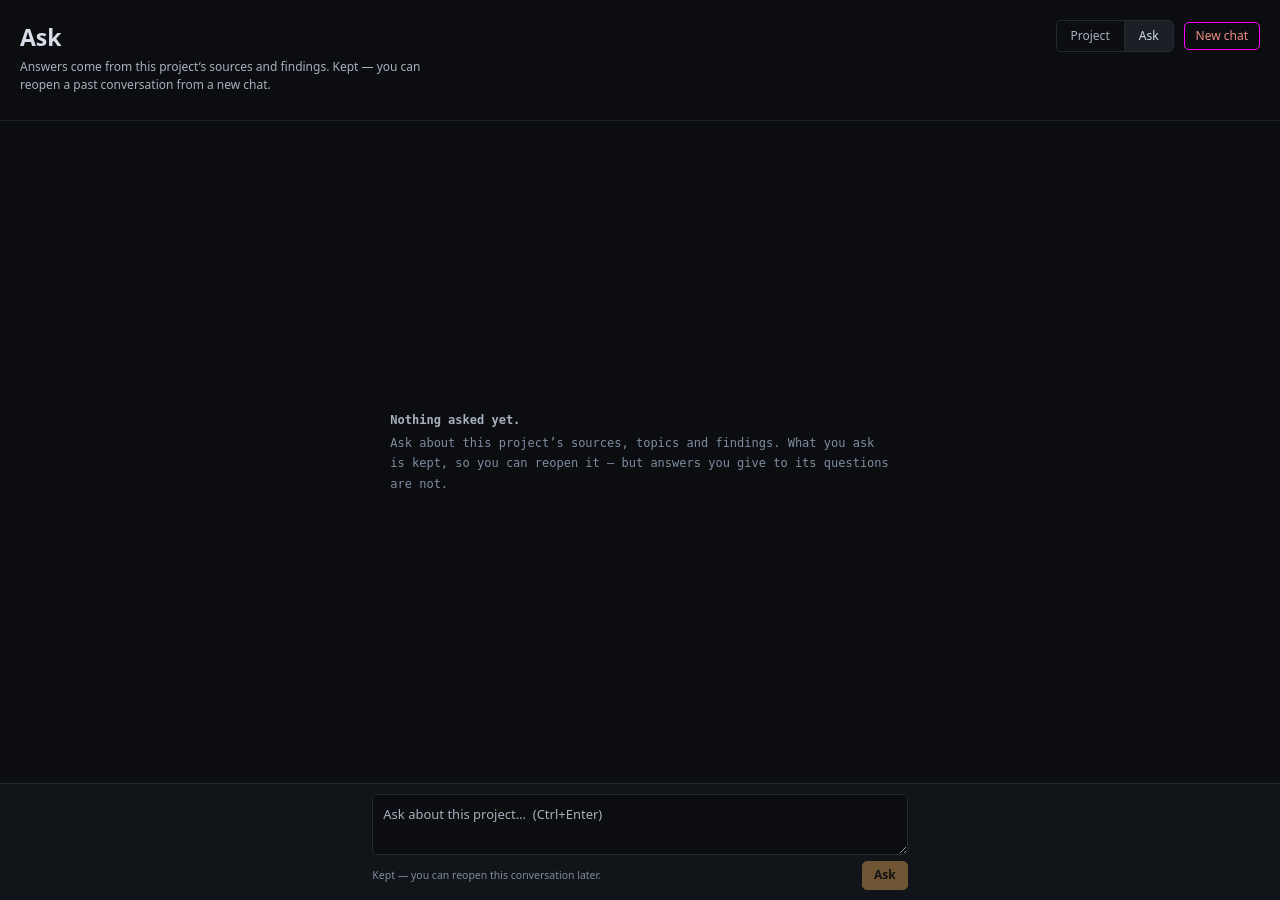
shows the question and its answer
This screenshot has width=1280, height=900.
Type "what did we find?" into the text box. click: {"x": 640, "y": 825}
box: [372,794,908,855]
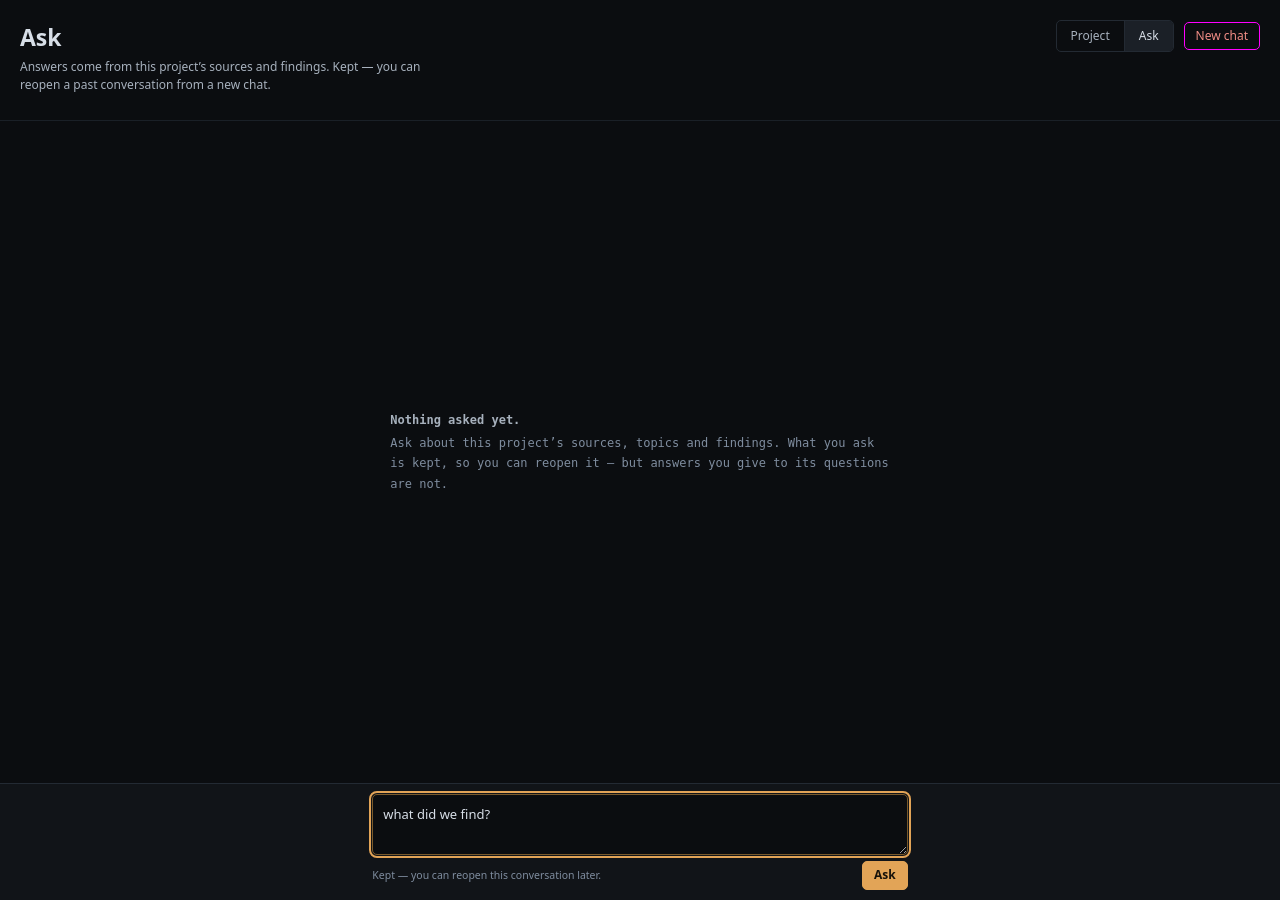
Click the button "Ask". click: {"x": 885, "y": 876}
box: [862,861,908,890]
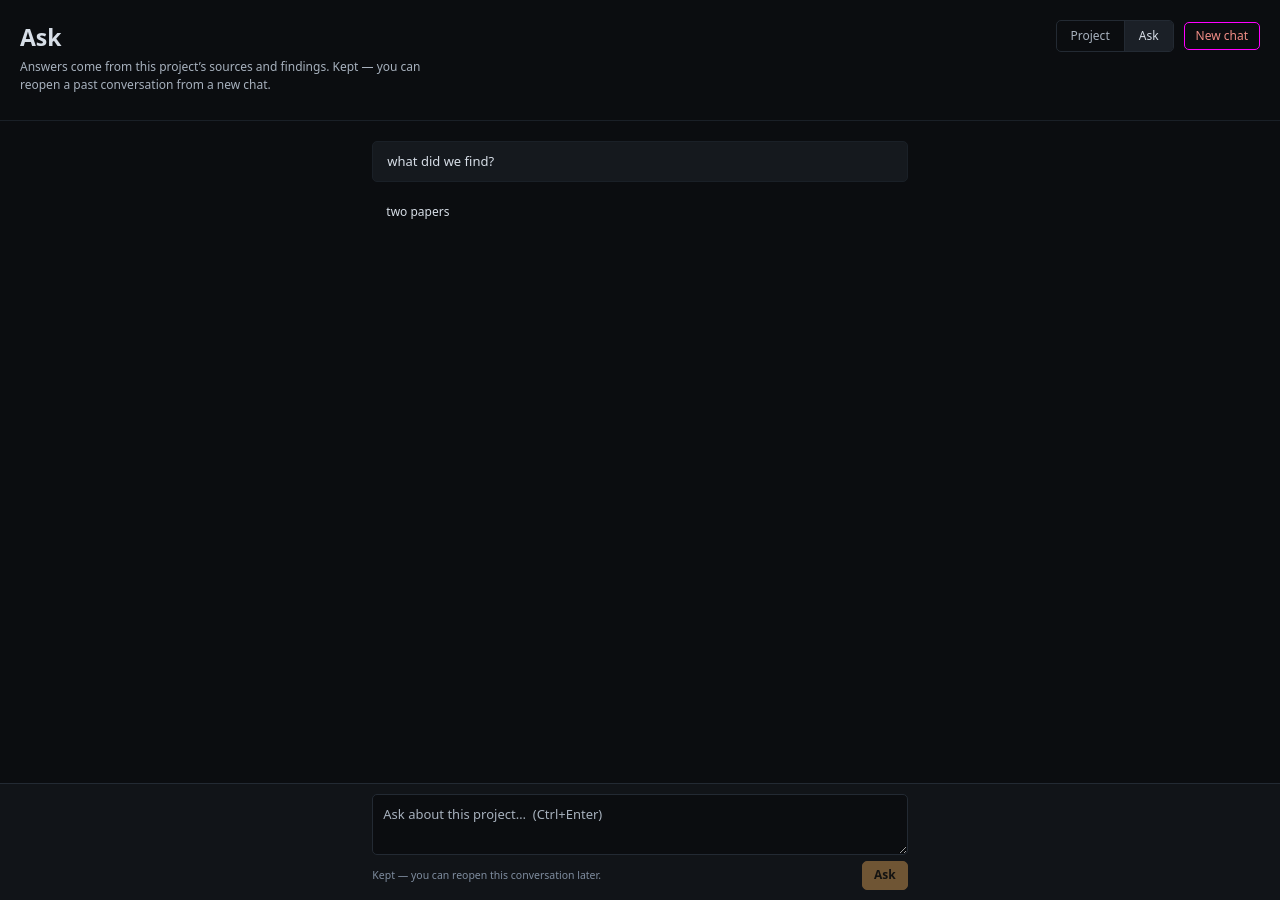
Now the text "what did we find?" is shown, box [372,140,908,182]
Now the text "two papers" is shown, box [386,203,449,220]
